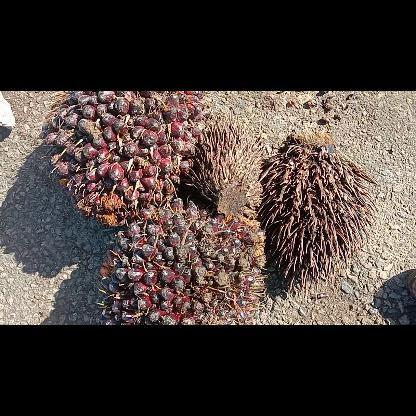Janjang kosong: (259, 134, 377, 300), (186, 113, 263, 217)
TBS mentah: (43, 90, 206, 226), (97, 198, 267, 324)
